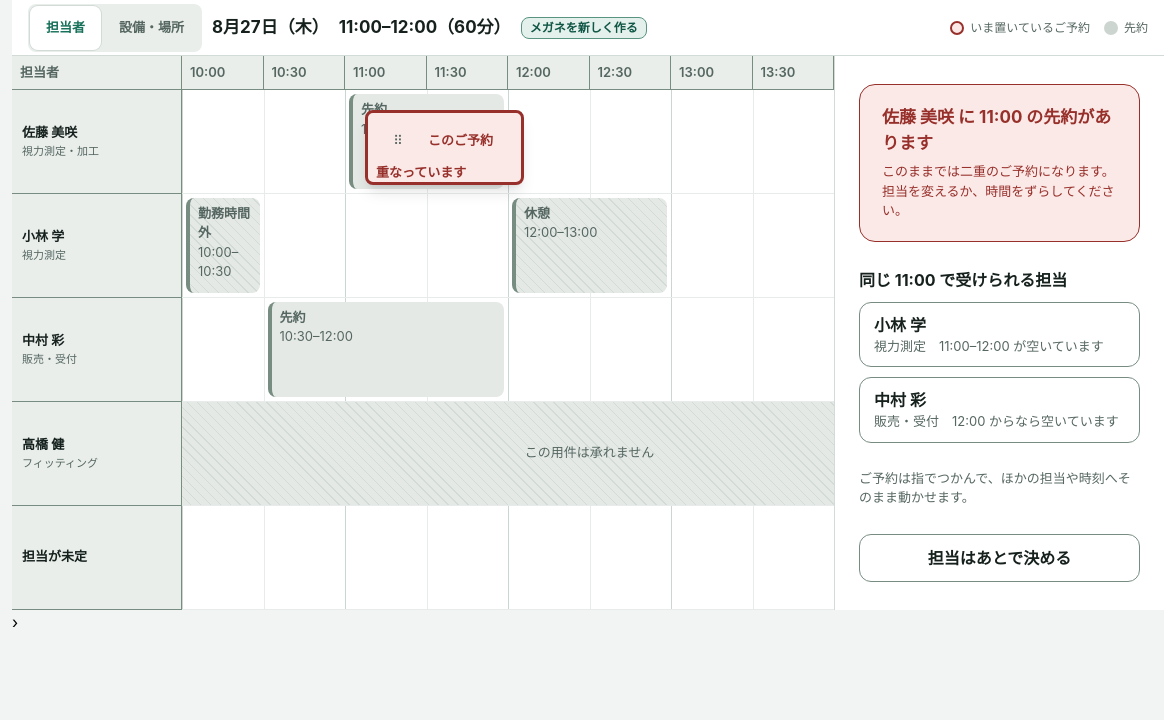
Test: ドラッグ › つまみをつかむと、もとの場所が薄く残る
Press the mouse on the button named "ご予約をつかんで動かす" at (398, 141), box [376,119,420,163]
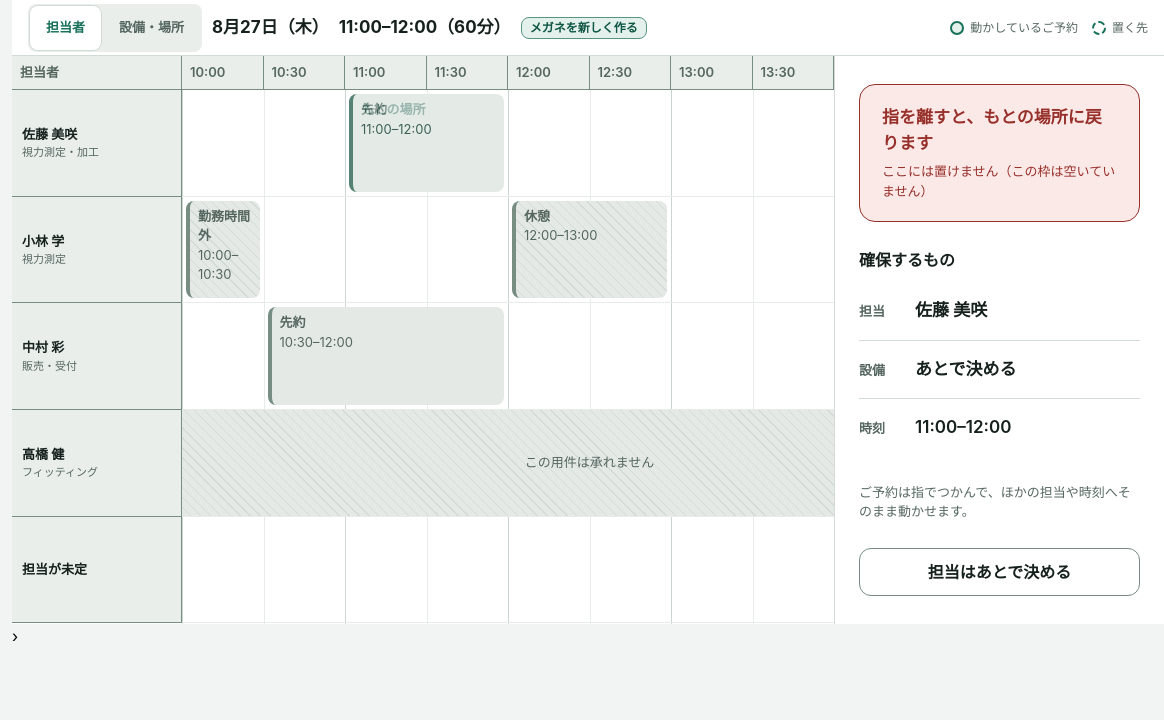
Expected: the text "もとの場所" is shown, [361,101,426,117]
